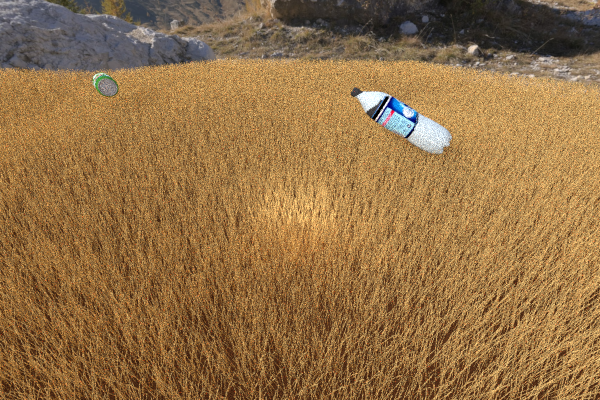bottle: (350, 87, 451, 154)
can: (84, 125, 173, 181), (92, 72, 118, 96)
